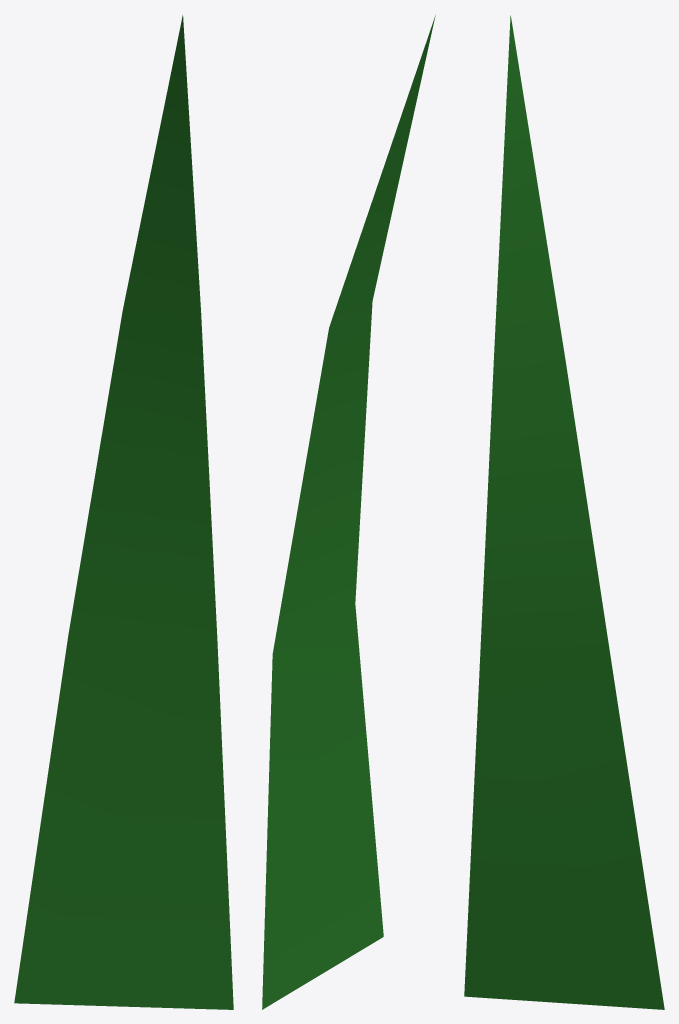
The model's file is grass_blade_C.fbx.
3 views of the same model, side by side, from view 1: azimuth 90°, elevation 25°; view 2: azimuth 150°, elevation 25°; view 3: azimuth 270°, elevation 25° (orthographic). The views are drawn at different scales.
Visible parts, largest first — view 1: grass_blade_C; view 2: grass_blade_C; view 3: grass_blade_C.
Boxes of the visible parts, box(x1,y1,x2,y2) form: grass_blade_C: box(14, 15, 233, 1009); grass_blade_C: box(262, 15, 435, 1009); grass_blade_C: box(464, 15, 664, 1009).
Size of the model in its own units: 4.79 by 39.94 by 7.64.
